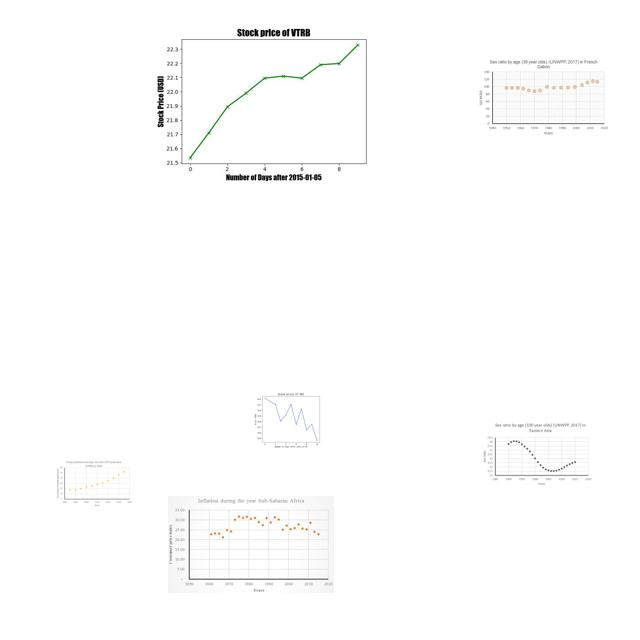Graph: (152, 11, 390, 190), (168, 496, 334, 593), (476, 58, 610, 136), (480, 422, 593, 489), (250, 389, 330, 449), (55, 460, 133, 507)
